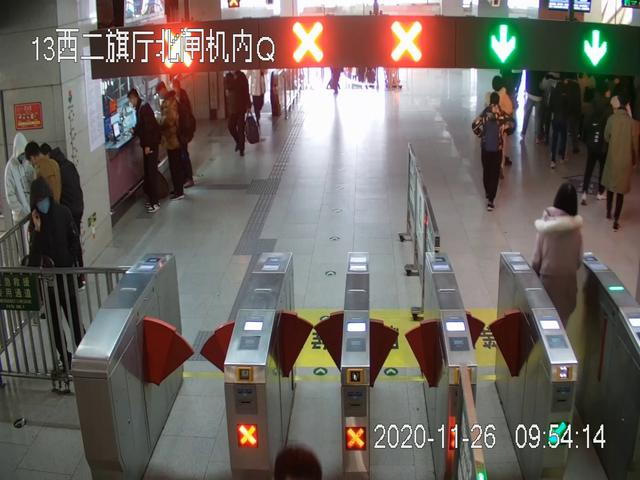person: (26, 176, 80, 381), (533, 183, 585, 327), (603, 93, 640, 230), (155, 81, 194, 201), (126, 88, 162, 215), (472, 94, 507, 213), (223, 71, 259, 158)
